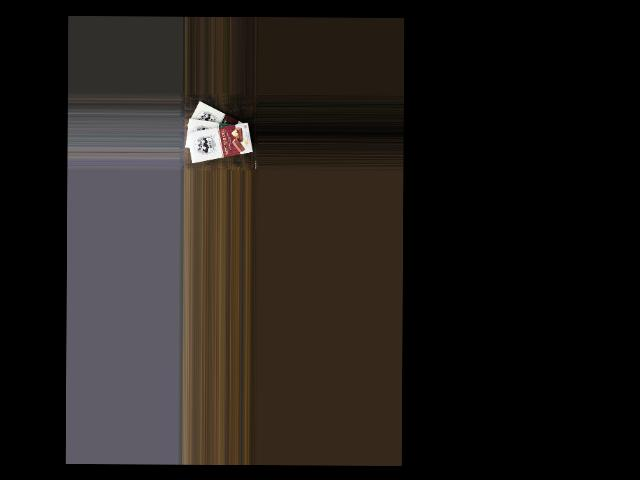chocolate: (185, 100, 252, 142)
